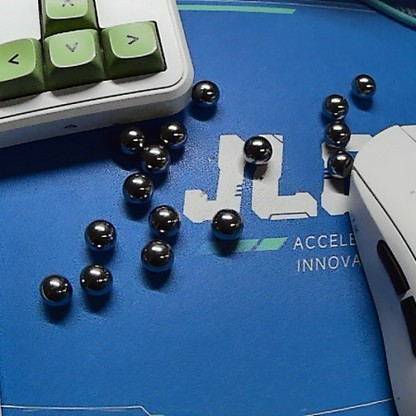ironball: (135, 237, 178, 281), (182, 71, 226, 113), (73, 258, 112, 303), (203, 206, 246, 244), (236, 127, 275, 167), (35, 275, 75, 311), (83, 219, 118, 254), (114, 171, 154, 200), (152, 118, 187, 149), (144, 200, 177, 230), (347, 67, 374, 102), (323, 153, 353, 181), (321, 88, 350, 116), (121, 124, 147, 155), (142, 148, 174, 172), (324, 115, 347, 145)
